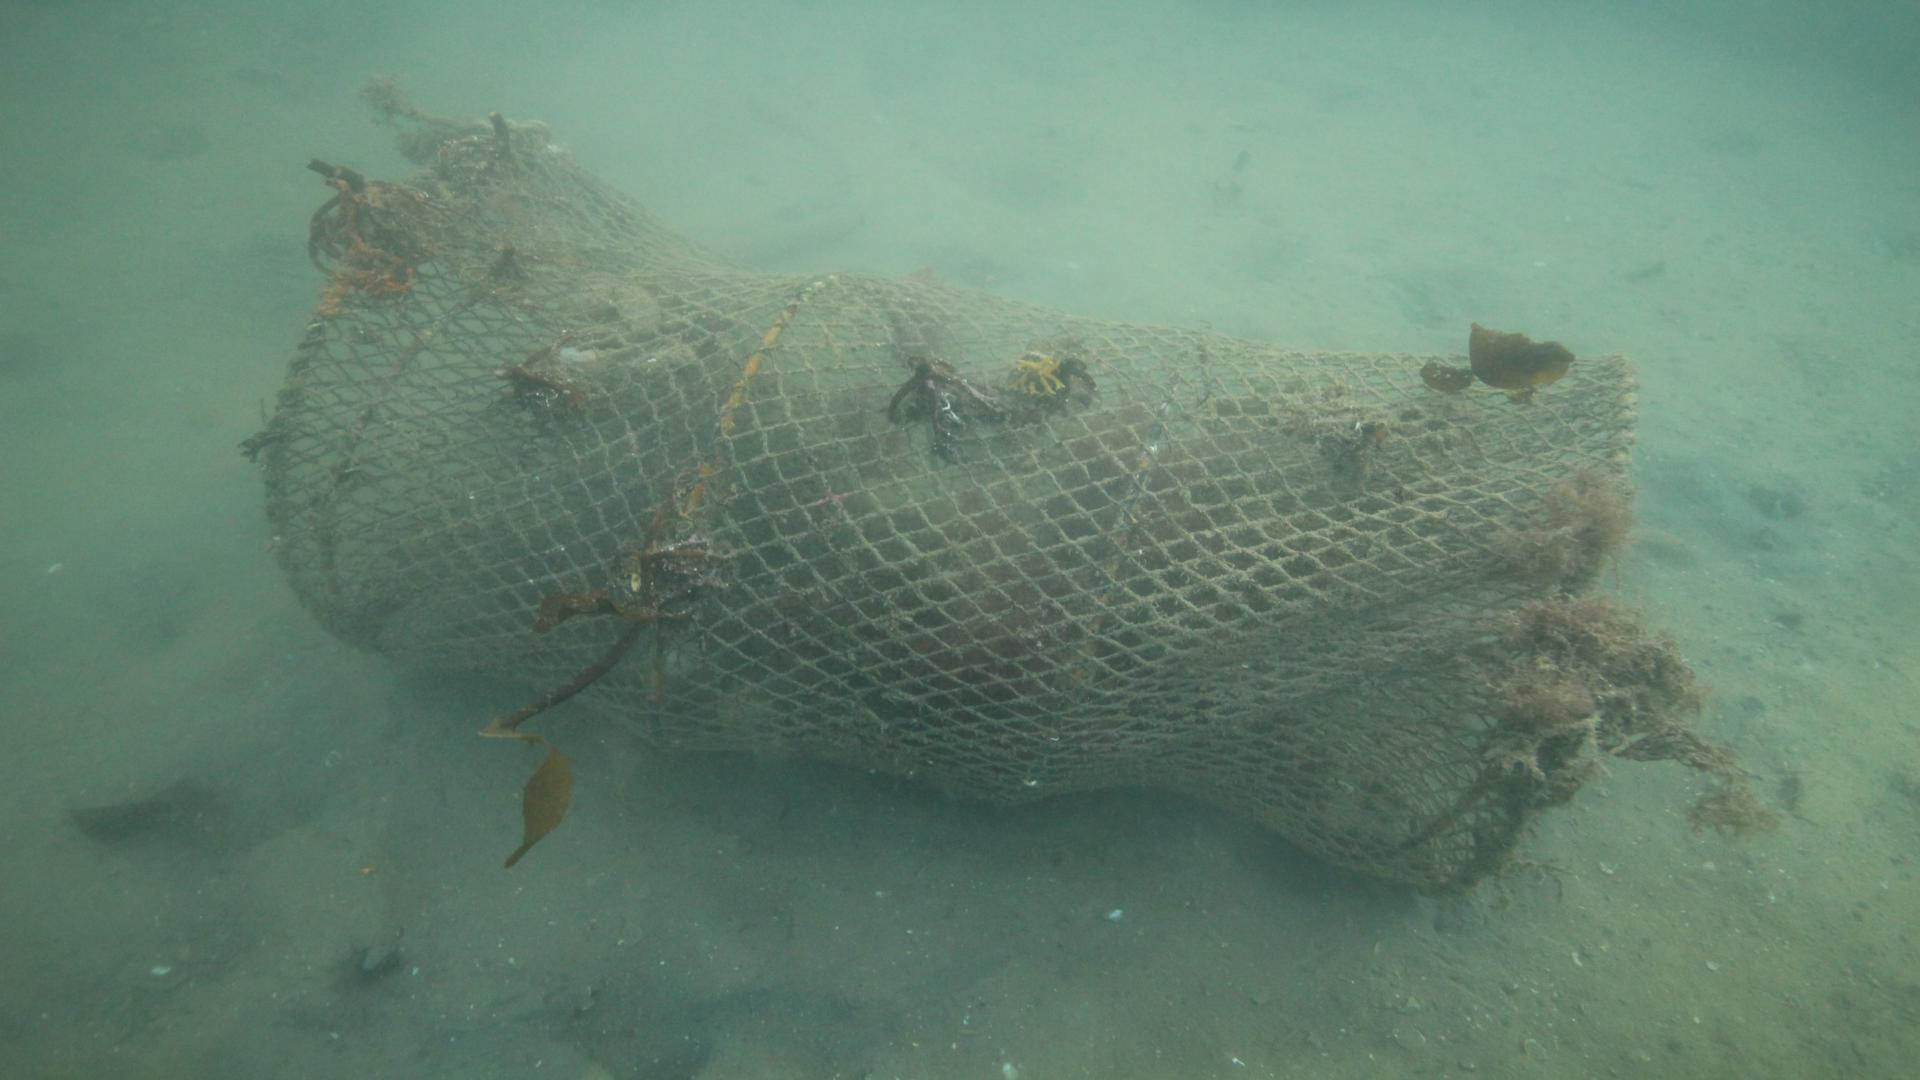spring fish trap: (262, 132, 1642, 897)
